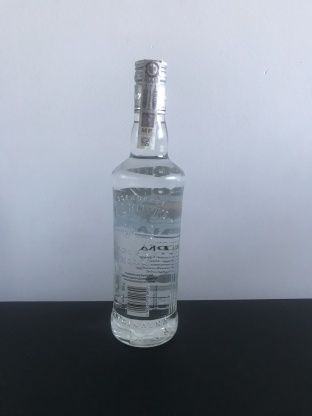nakretka: (131, 55, 169, 117)
